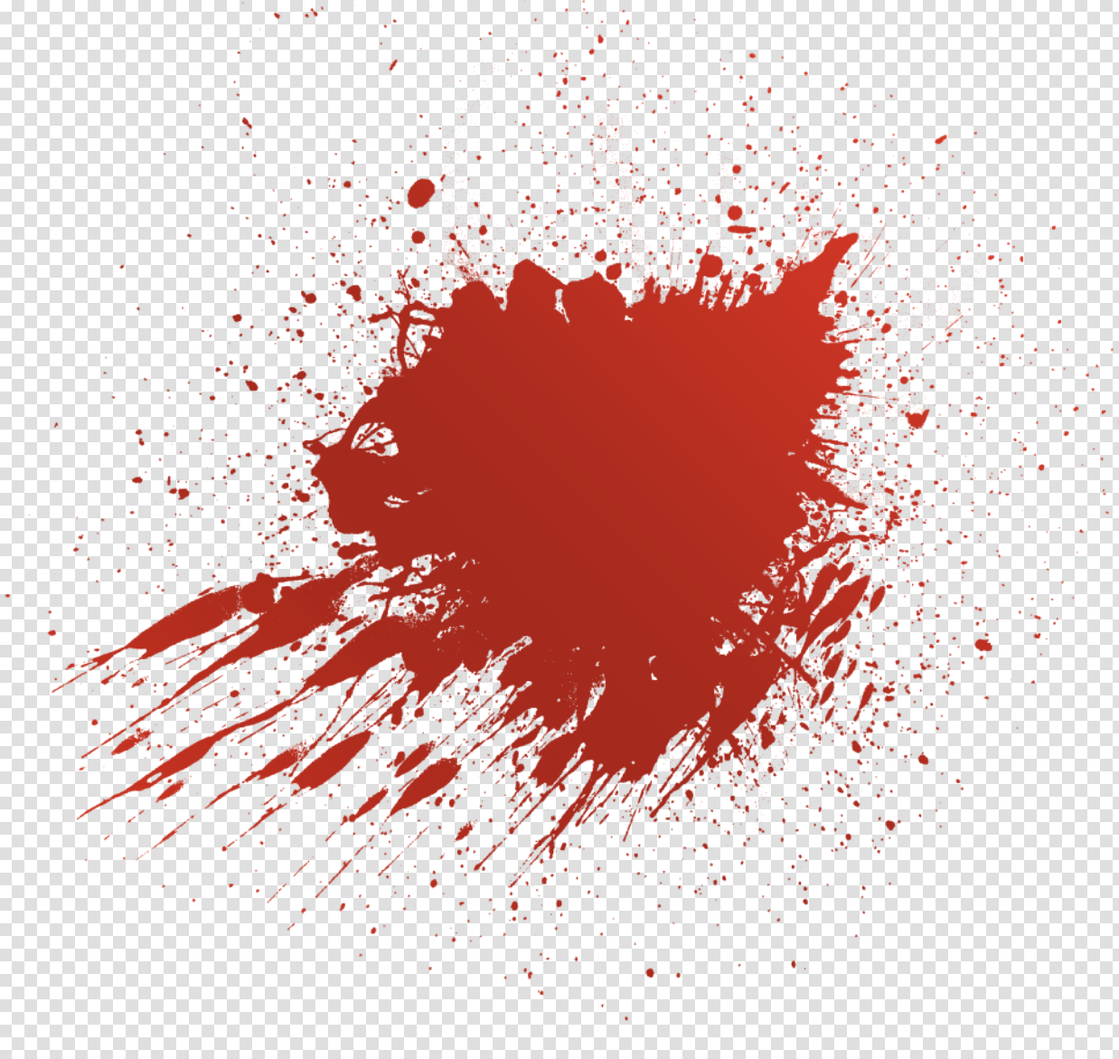blood_21.png: (73, 159, 1061, 977)
